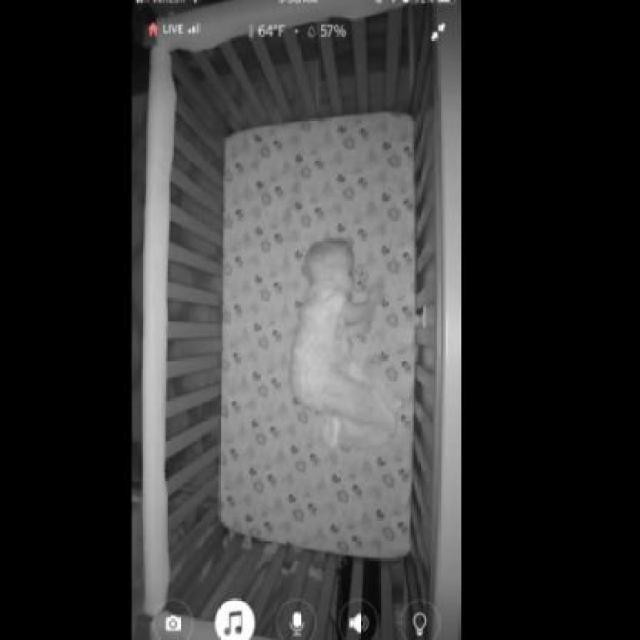child: (289, 239, 387, 445)
